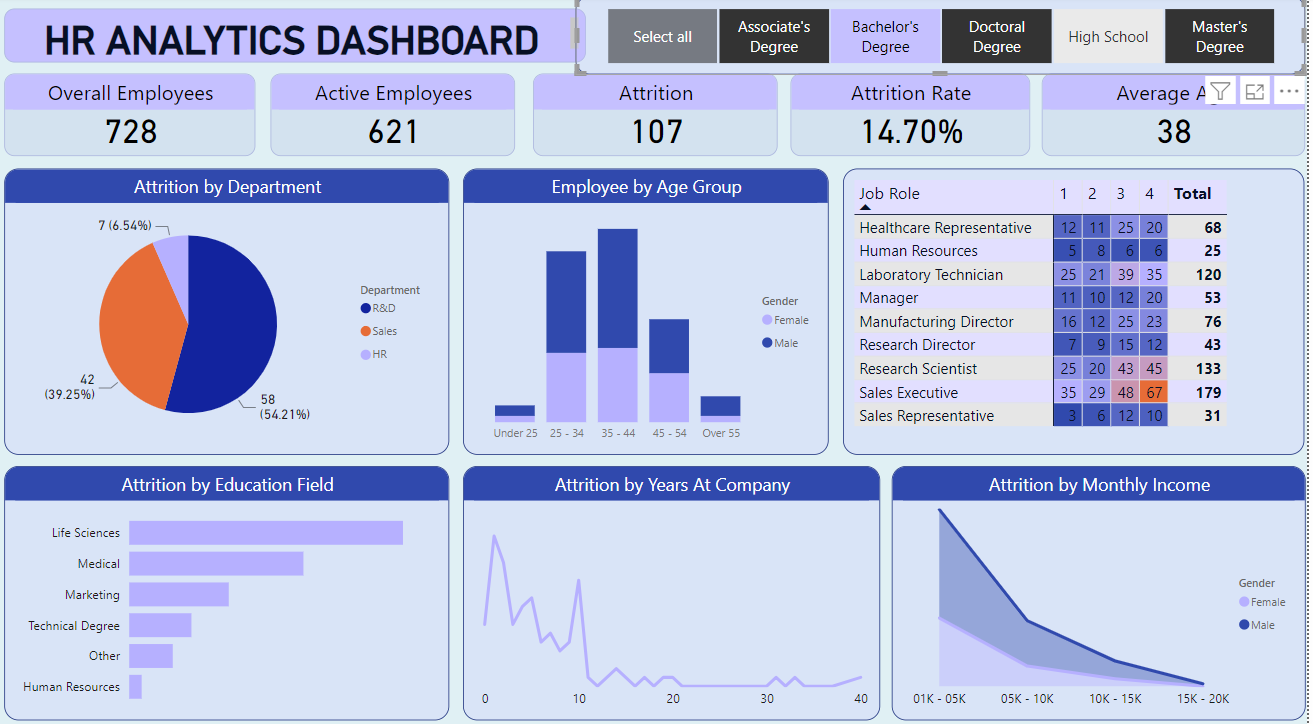

The dashboard page shown, as its layout file describes it:
{"tool":"powerbi","page":{"name":"hr Attrition","canvas":[1280,720],"ordinal":0},"visuals":[{"type":"card","title":"Overall Employees","fields":{"Values":["Sum(HR data.Employee Count)"]},"box":[6.5,76,245.9,80.9],"z":0},{"type":"card","title":"Attrition","fields":{"Values":["Sum(HR data.Attrition Count)"]},"box":[522.6,76,239.5,80.9],"z":1000},{"type":"card","title":"Attrition Rate","fields":{"Values":["HR data.Attrition Rate"]},"box":[775,76,234.6,80.9],"z":2000},{"type":"card","title":"Active Employees","fields":{"Values":["HR data.Active Employees"]},"box":[267,76,239.5,80.9],"z":3000},{"type":"card","title":"Average Age","fields":{"Values":["Avg(HR data.Age)"]},"box":[1020.9,76,257.3,80.9],"z":4000},{"type":"pieChart","title":"Attrition by Department","fields":{"Category":["HR data.Department"],"Y":["Sum(HR data.Attrition Count)"]},"box":[6.5,168.3,435.2,279.9],"z":5000},{"type":"columnChart","title":"Employee by Age Group","fields":{"Category":["HR data.CF_age band"],"Y":["Sum(HR data.Employee Count)"],"Series":["HR data.Gender"]},"box":[454.7,168.3,357.6,279.9],"z":6000},{"type":"pivotTable","title":"Job Satisfaction","fields":{"Rows":["HR data.Job Role"],"Columns":["HR data.Job Satisfaction"],"Values":["Sum(HR data.Employee Count)"]},"box":[826.8,168.3,451.4,279.9],"z":7000},{"type":"barChart","title":"Attrition by Education Field","fields":{"Y":["Sum(HR data.Attrition Count)"],"Category":["HR data.Education Field"]},"box":[6.5,459.5,435.2,249.2],"z":8000},{"type":"textbox","box":[6.1,12.2,568.4,52.6],"z":9000},{"type":"slicer","fields":{"Values":["HR data.Education"]},"box":[565.3,0,713.3,76.5],"z":10000},{"type":"lineChart","title":"Attrition by Years At Company","fields":{"Category":["HR data.Years At Company"],"Y":["Sum(HR data.Attrition Count)"]},"box":[454.7,459.5,407.7,249.2],"z":11000},{"type":"stackedAreaChart","title":"Attrition by Monthly Income","fields":{"Category":["HR data.Income Range"],"Y":["Sum(HR data.Attrition Count)"],"Series":["HR data.Gender"]},"box":[873.7,459.5,404.5,249.2],"z":12000}]}

Visuals, with their boxes in screenshot pixels (x1, y1, x2, y2), scaled from the page's 1280x720 canvas onto the 1313x724 screenshot:
"Overall Employees" card: (7, 76, 259, 158)
"Attrition" card: (536, 76, 782, 158)
"Attrition Rate" card: (795, 76, 1036, 158)
"Active Employees" card: (274, 76, 520, 158)
"Average Age" card: (1047, 76, 1311, 158)
"Attrition by Department" pieChart: (7, 169, 453, 451)
"Employee by Age Group" columnChart: (466, 169, 833, 451)
"Job Satisfaction" pivotTable: (848, 169, 1311, 451)
"Attrition by Education Field" barChart: (7, 462, 453, 713)
textbox: (6, 12, 589, 65)
slicer - HR data.Education: (580, 0, 1312, 77)
"Attrition by Years At Company" lineChart: (466, 462, 885, 713)
"Attrition by Monthly Income" stackedAreaChart: (896, 462, 1311, 713)
